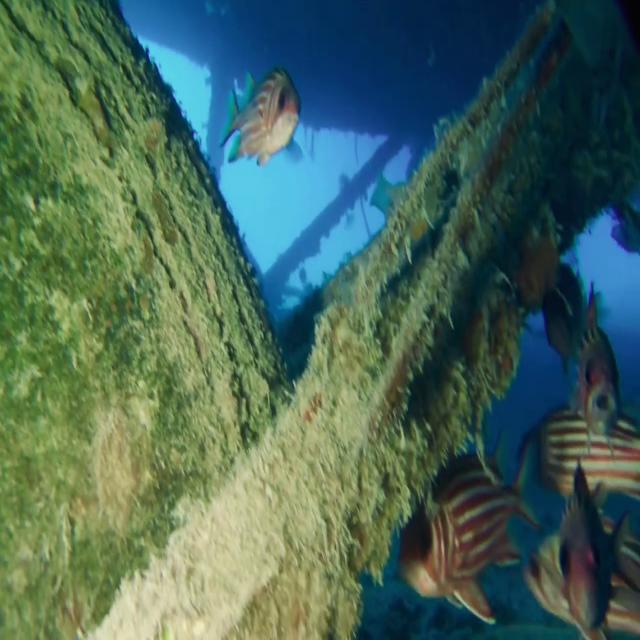Asker Baligi: (394, 449, 544, 614), (518, 383, 640, 520), (218, 62, 304, 169)
